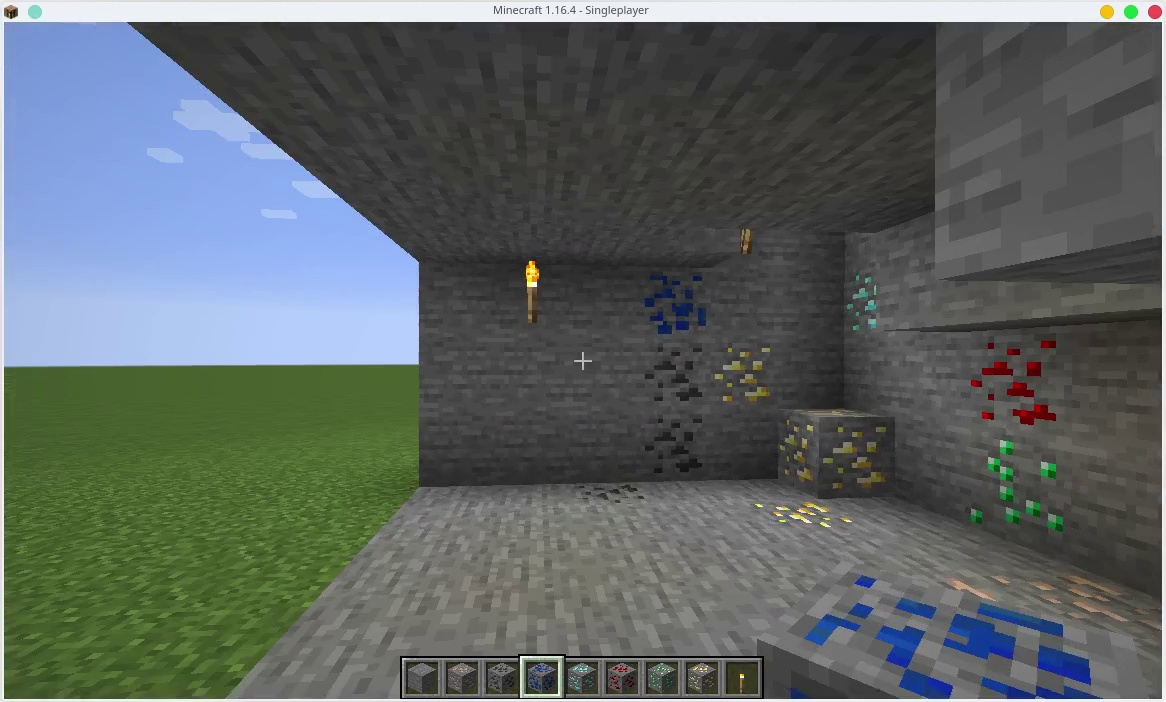gold: (778, 408, 894, 491), (745, 495, 863, 534), (708, 344, 774, 404), (684, 658, 722, 692)
